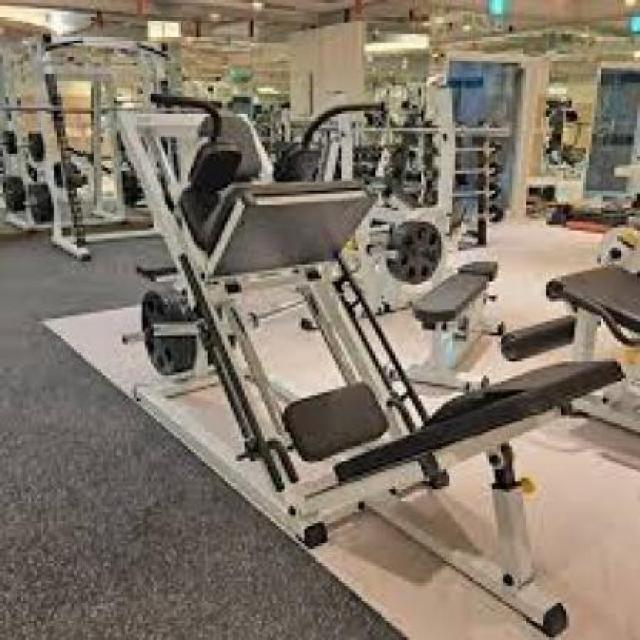leg press: (80, 71, 640, 640)
